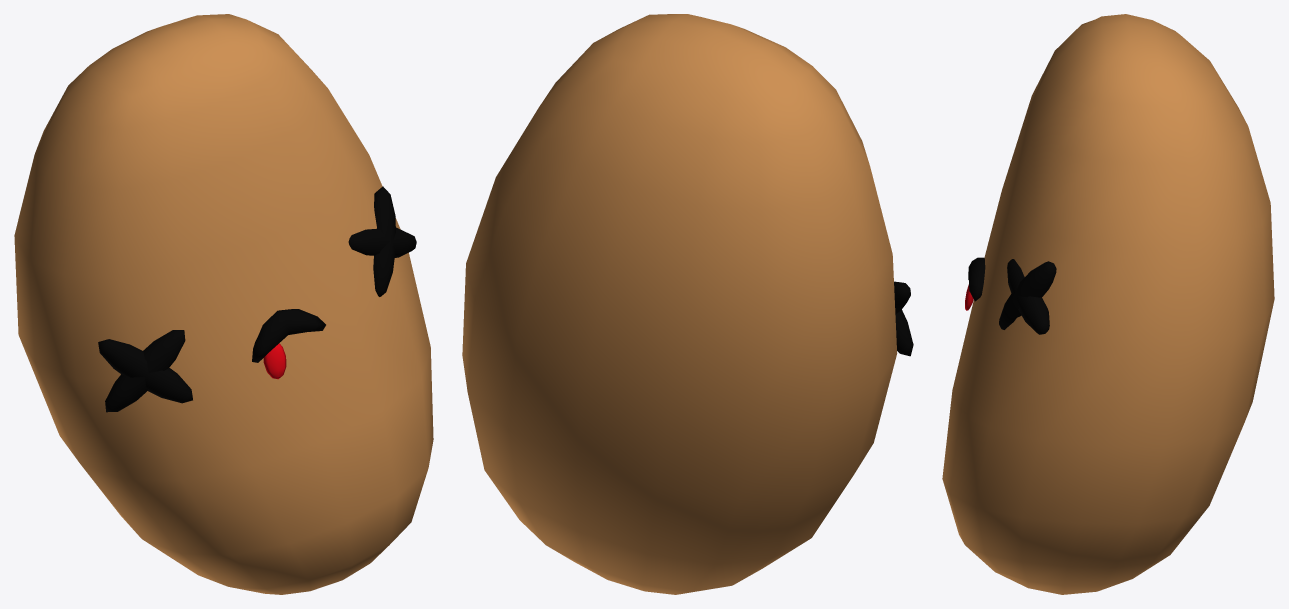
File: Potato(dead).fbx
3 renders of one model, left to right at view 1: azimuth 30°, elevation 25°; view 2: azimuth 150°, elevation 25°; view 3: azimuth 270°, elevation 25°, orthographic. The views are drawn at different scales.
Parts seen in each view (by area): view 1: Potato(dead); view 2: Potato(dead); view 3: Potato(dead).
Boxes of the visible parts, box(x1,y1,x2,y2) form: Potato(dead): box(14, 14, 433, 594); Potato(dead): box(462, 14, 913, 594); Potato(dead): box(942, 14, 1274, 594).
Size of the model in its own units: 97.12 by 138 by 79.1.
